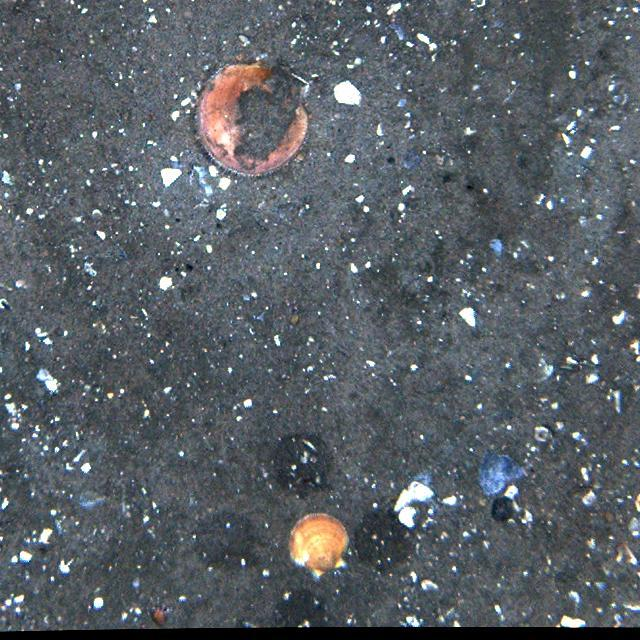scallop: (199, 60, 316, 178), (288, 513, 353, 583)
